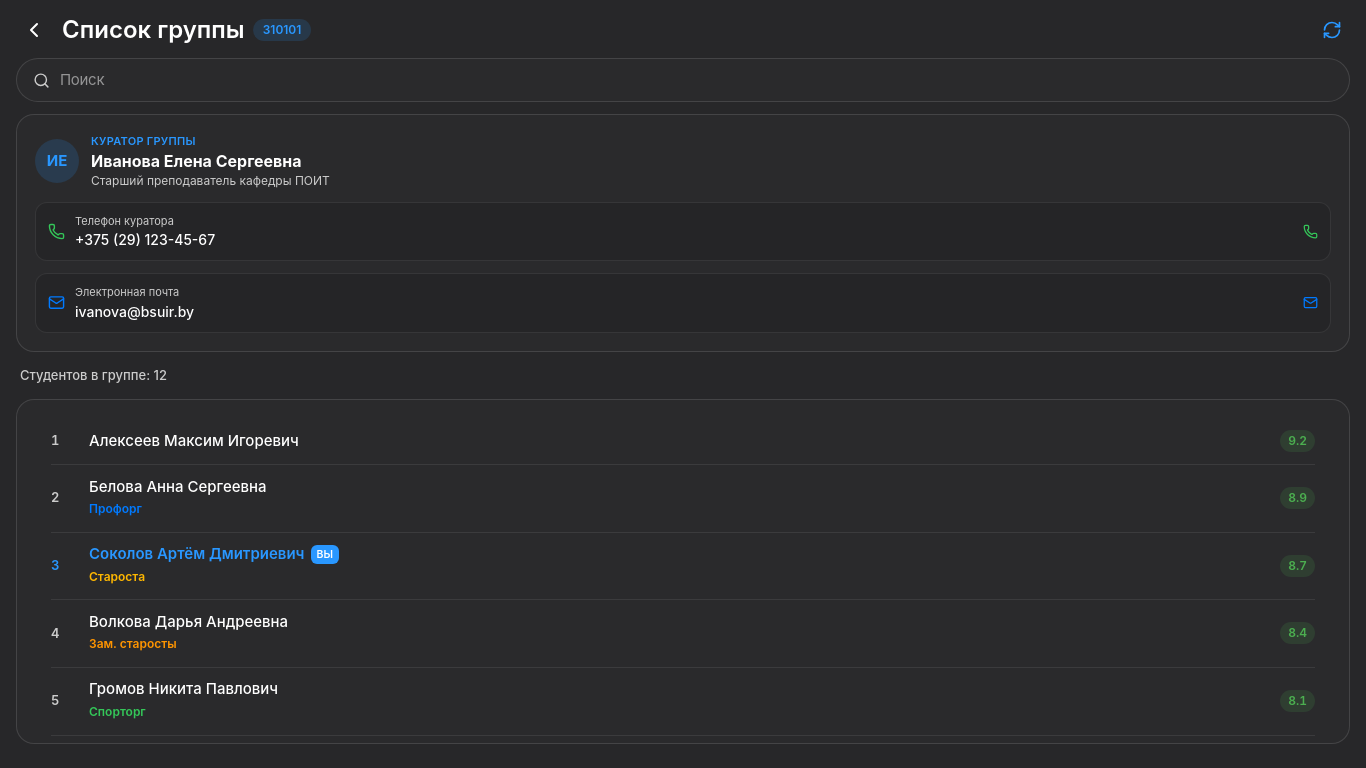
Test: M4 Screens Suite › GroupScreen renders curator links, ВЫ badge, role badges, and filters roster
The width and height of the screenshot is (1366, 768).
Expected: the text "Куратор группы" is shown, [91,134,196,148]
Expected: the text "+375 (29) 123-45-67" is shown, [75,229,215,250]
In the field with placeholder "Поиск": (696, 80) [60,70,1333,90], type "Волкова"
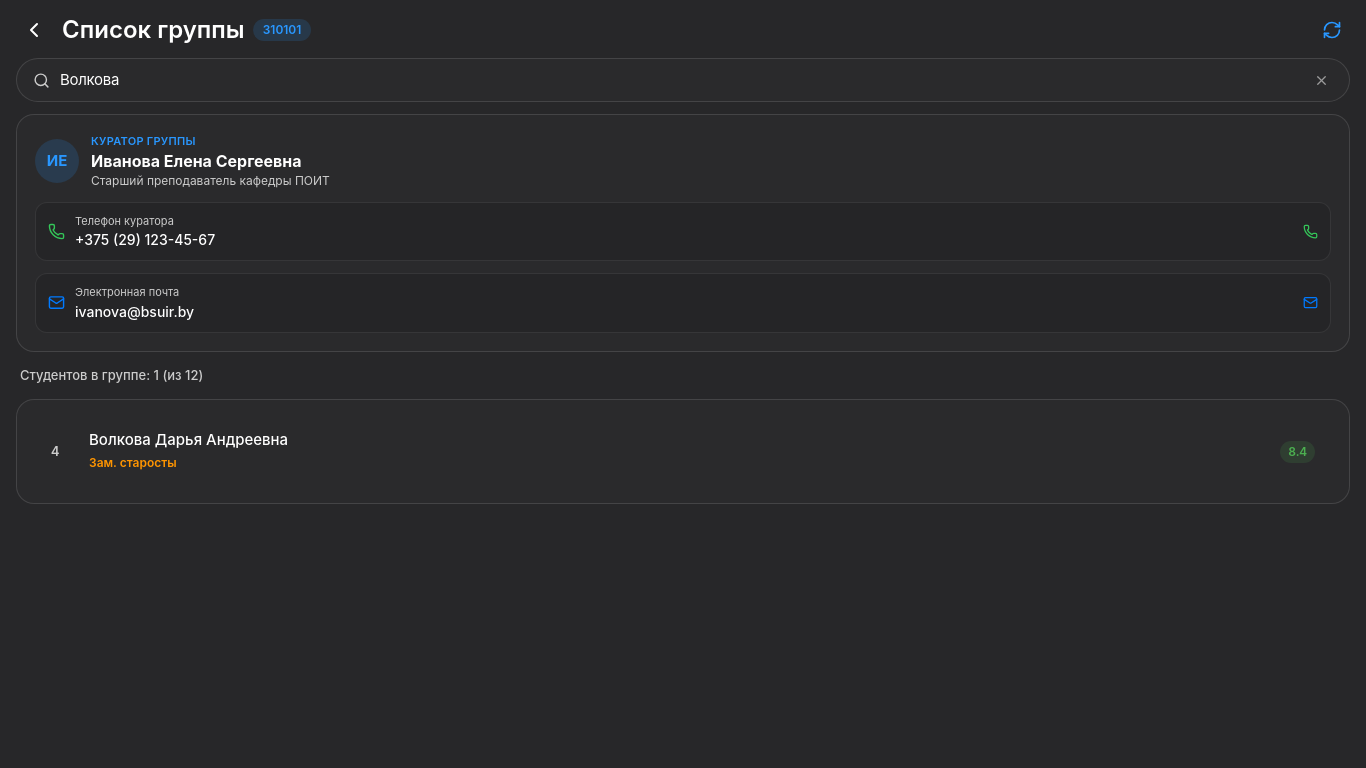
Expected: the text "Студентов в группе: 1 (из 12)" is shown, [20,366,203,382]
